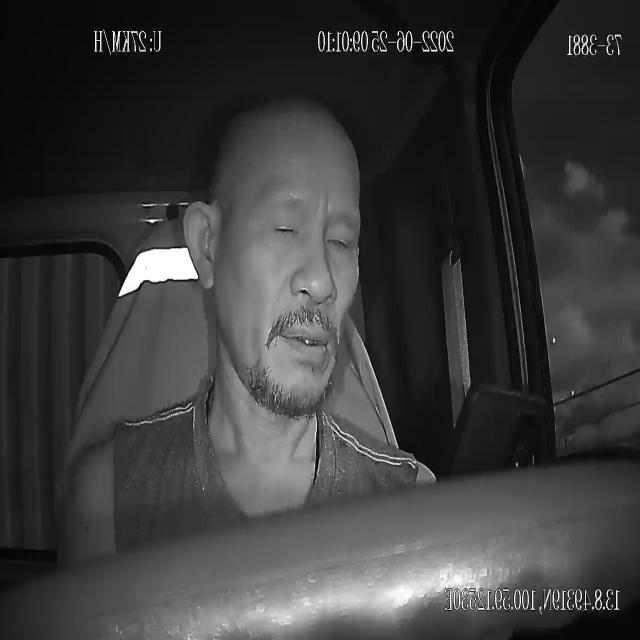phone: (440, 379, 548, 484)
